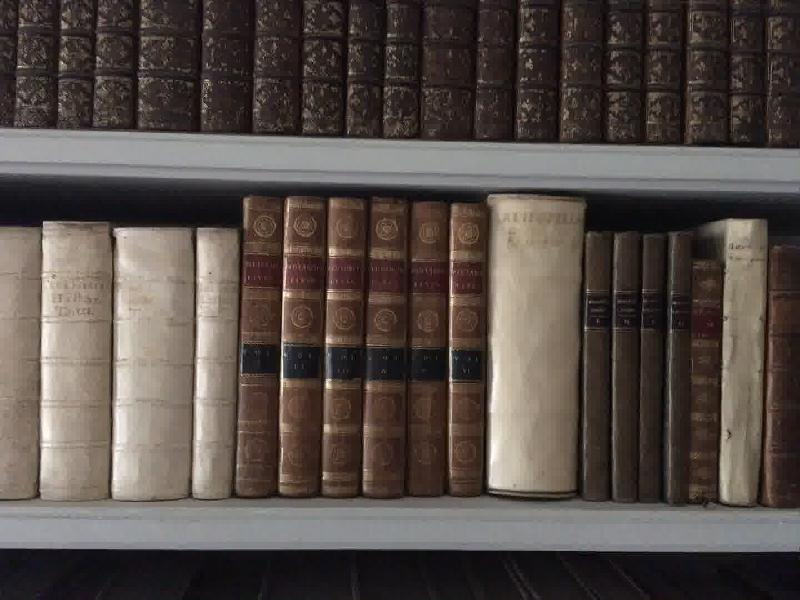Kk4-14: (485, 188, 589, 517)
Kk4-15_16: (571, 218, 651, 524)
Kk4-17_18: (639, 218, 694, 523)
Kk4-19: (688, 245, 729, 512)
Kk4-20: (718, 214, 772, 513)
Kk4-3_7: (1, 208, 245, 516)
Kk4-8_13: (231, 188, 493, 520)
